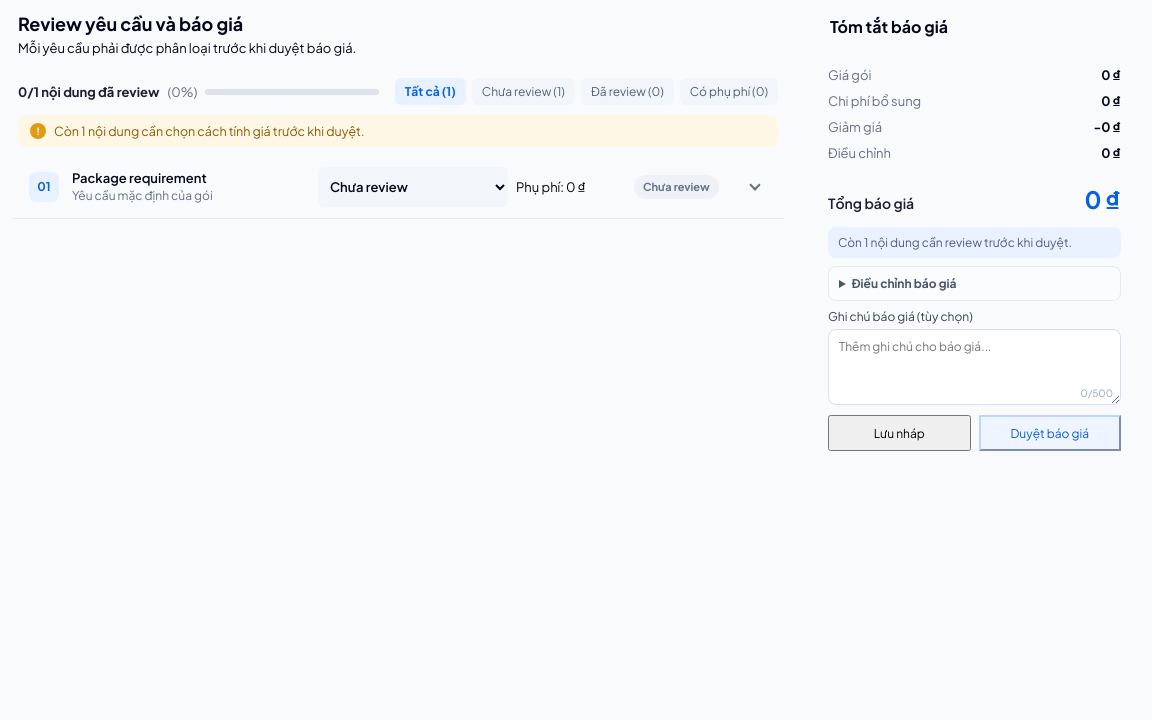
Test: ManagerPricingPanel › automatically includes pending package requirements when approving
This screenshot has width=1152, height=720.
Check: the text "Package requirement" is shown, box [72,170,207,186]
Click the button "Duyệt báo giá" at (1050, 433), box [978,415,1121,451]
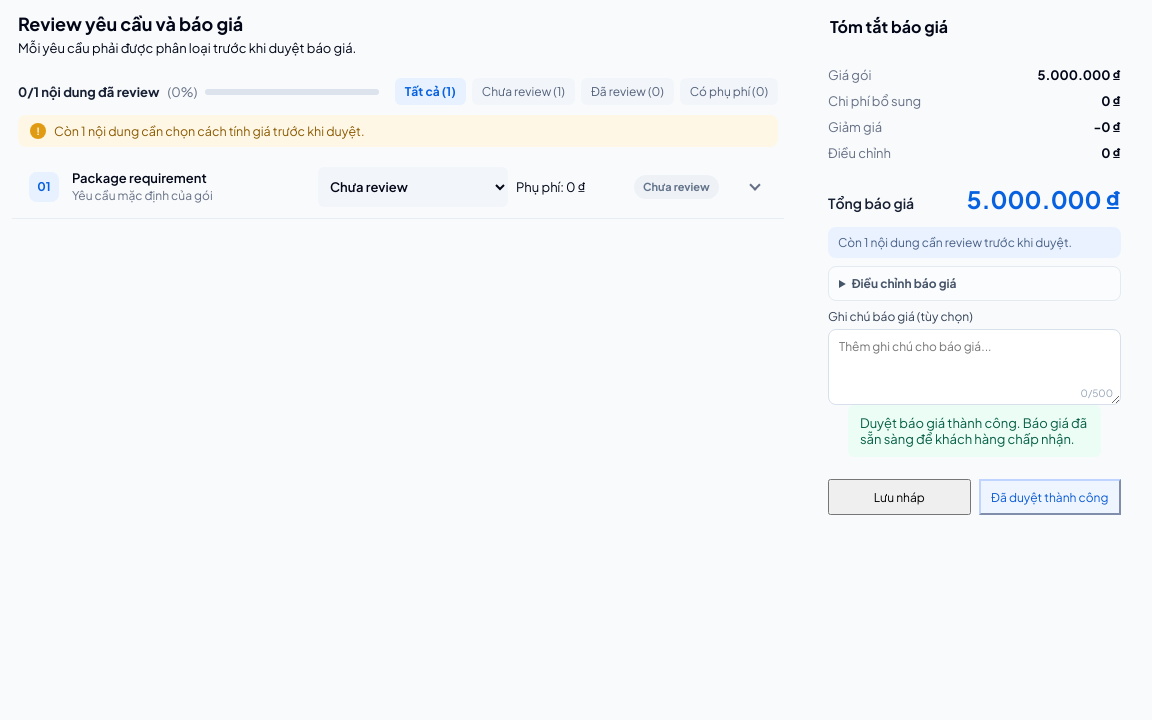
Check: the text "Duyệt báo giá thành công. Báo giá đã sẵn sàng để khách hàng chấp nhận." is shown, box [848,405,1101,457]
